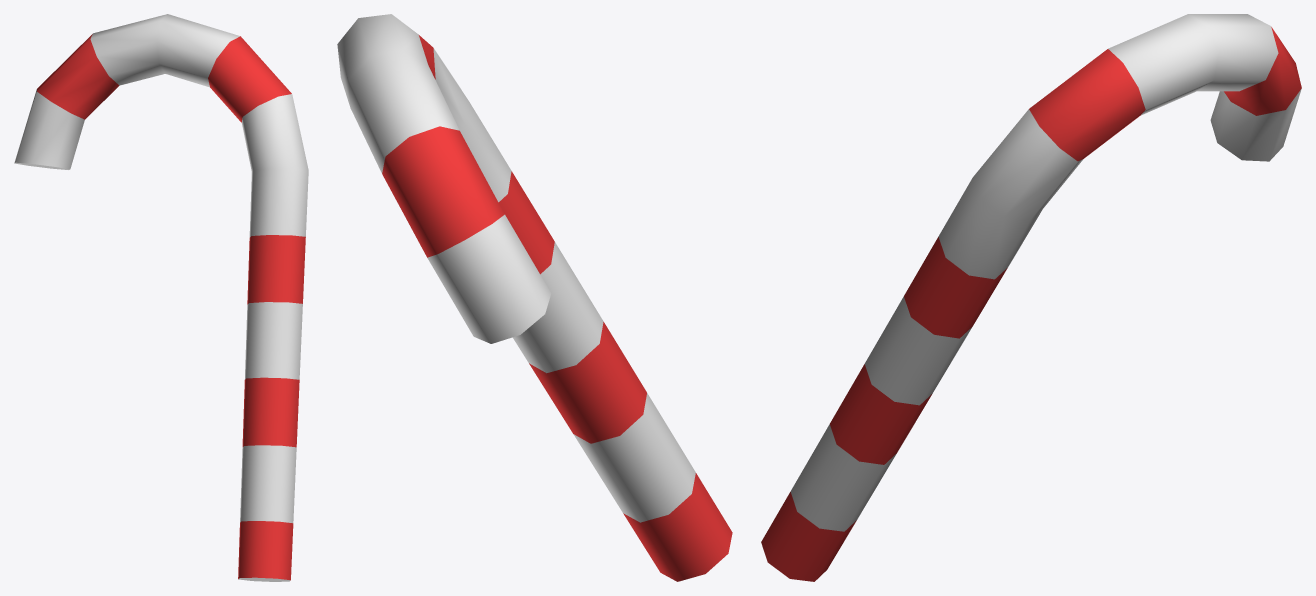
The model's file is ChristmasTree_Dif5_Sc1.fbx.
The picture shows the model from 3 angles, left to right: view 1: azimuth 30°, elevation 25°; view 2: azimuth 150°, elevation 25°; view 3: azimuth 270°, elevation 25°; orthographic projection. The views are drawn at different scales.
Parts seen in each view (by area): view 1: ChristmasTree_Dif5_Sc1; view 2: ChristmasTree_Dif5_Sc1; view 3: ChristmasTree_Dif5_Sc1.
Boxes of the visible parts, bbox=[...] form: ChristmasTree_Dif5_Sc1: bbox=[14, 14, 308, 581]; ChristmasTree_Dif5_Sc1: bbox=[337, 14, 732, 581]; ChristmasTree_Dif5_Sc1: bbox=[761, 14, 1301, 581].
Bounding box in the file's own units: 0.3333 × 0.5907 × 0.7079.
